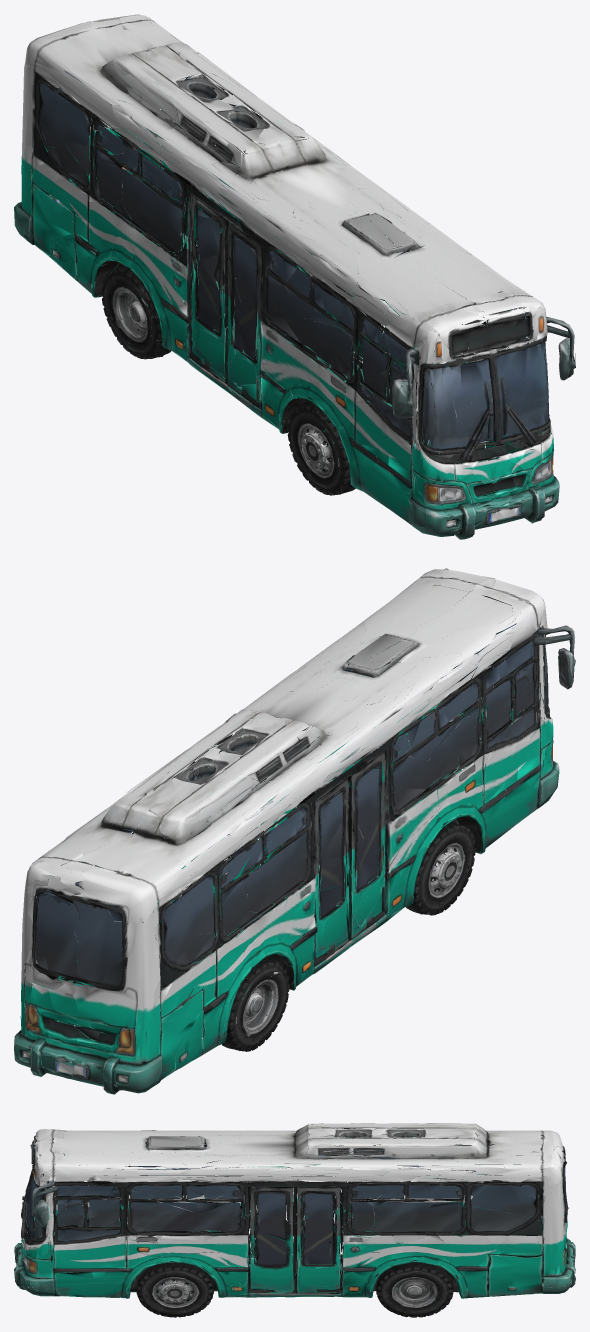
The model's file is CityBus.fbx.
3 renders of one model, top to bottom at view 1: azimuth 30°, elevation 25°; view 2: azimuth 150°, elevation 25°; view 3: azimuth 270°, elevation 25°, orthographic. The views are drawn at different scales.
Visible parts, largest first — view 1: CityBus; view 2: CityBus; view 3: CityBus.
Boxes of the visible parts, x1,y1,x2,y2 form: CityBus: [14, 14, 575, 539]; CityBus: [14, 568, 575, 1094]; CityBus: [14, 1123, 575, 1317].
Bounding box in the file's own units: 2.16 × 2.99 × 9.15.
Materials: 1 (1 with a texture image).
